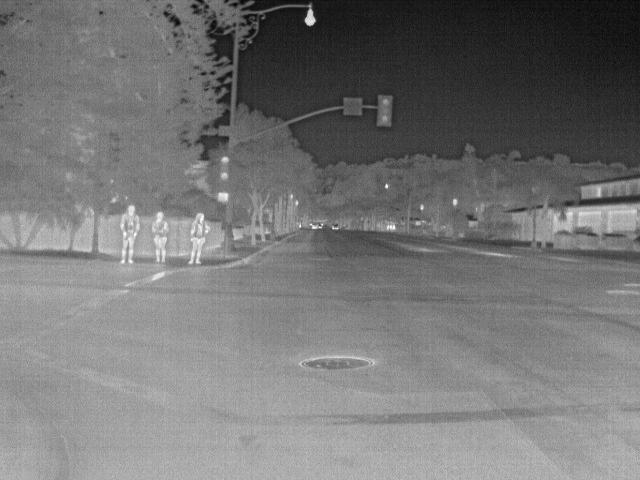person: (119, 206, 141, 266), (187, 212, 211, 263), (150, 210, 171, 264)
